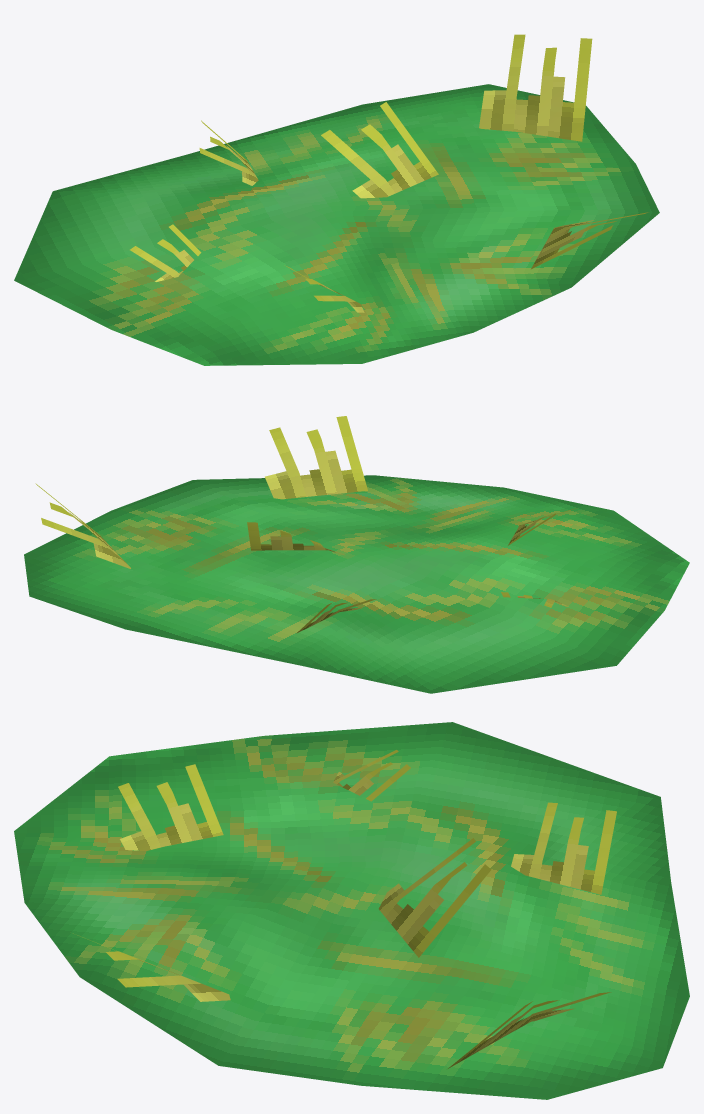
The model's file is puddle_03.fbx.
The picture shows the model from 3 angles, top to bottom: view 1: azimuth 30°, elevation 25°; view 2: azimuth 150°, elevation 25°; view 3: azimuth 270°, elevation 25°; orthographic projection. The views are drawn at different scales.
Visible parts, largest first — view 1: puddle_3, puddle_3_hair; view 2: puddle_3, puddle_3_hair; view 3: puddle_3, puddle_3_hair.
Boxes of the visible parts, <box> form: puddle_3: <box>14,84,659,365</box>; puddle_3_hair: <box>130,34,648,312</box>; puddle_3: <box>24,475,689,693</box>; puddle_3_hair: <box>35,416,577,633</box>; puddle_3: <box>14,722,689,1099</box>; puddle_3_hair: <box>73,750,616,1068</box>.
Bounding box in the file's own units: 15.22 × 2.33 × 11.22.
